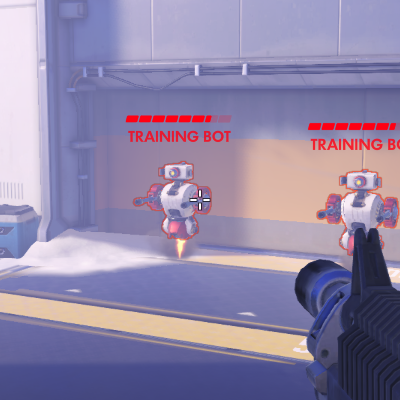hpbar: (125, 114, 231, 123), (307, 122, 400, 131)
